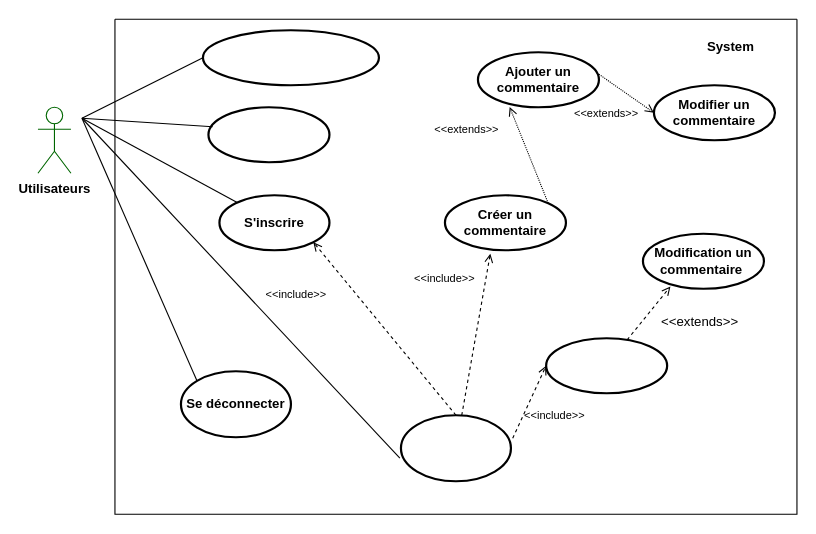
The diagram is 816 pixels wide and 534 high, and some of its shapes have lost their labels. Each missing label, with the box of its shape:
Commentaires: (544, 337, 668, 394)
Consulter la liste des articles: (201, 29, 380, 86)
Consulter un article: (207, 106, 330, 163)
Se connecter: (399, 414, 512, 482)
